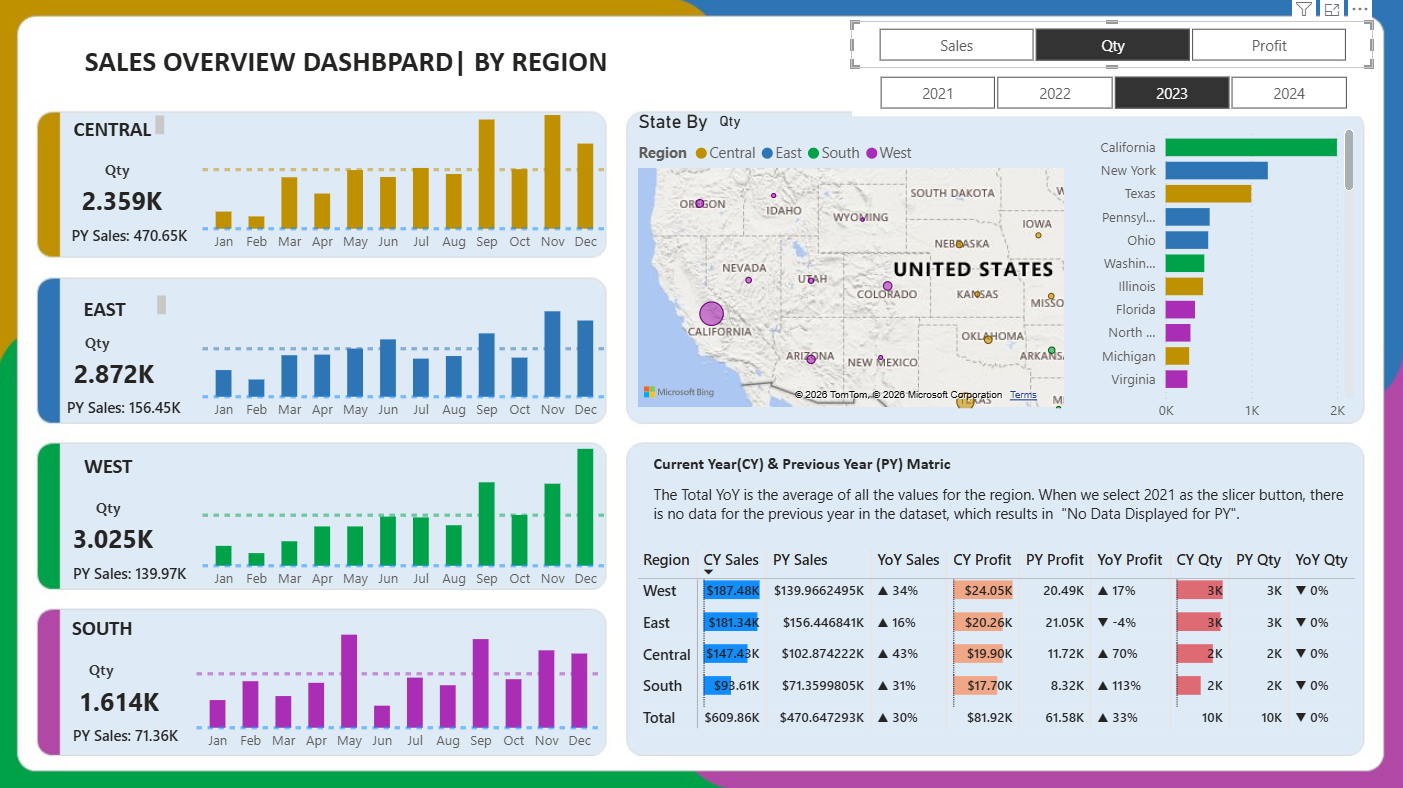

The dashboard page shown, as its layout file describes it:
{"tool":"powerbi","page":{"name":"Sales ODBR","canvas":[1280,720],"ordinal":0},"visuals":[{"type":"textbox","box":[61.2,101.1,96.7,29.3],"z":0},{"type":"slicer","fields":{"Values":["Calendar Table.Year"]},"box":[778.1,63.2,473.7,42.8],"z":1000},{"type":"slicer","fields":{"Values":["Select Matric.Select Matric"]},"box":[777.6,20.4,474.4,42.6],"z":2000},{"type":"cardVisual","fields":{"Data":["Sales Data.Total Sales"]},"box":[61.2,142.8,134.8,67.4],"z":3000},{"type":"card","fields":{"Values":["Sales Data.Dynamic Title"]},"box":[61.2,142.8,98.4,25.7],"z":4000},{"type":"card","fields":{"Values":["Sales Data.PY KPI Sales"]},"box":[54.1,203.9,134.8,26.6],"z":5000},{"type":"clusteredColumnChart","fields":{"Y":["Sales Data.Total Sales"],"Category":["Calendar Table.Month"]},"box":[182.7,85.1,377.7,153.4],"z":6000},{"type":"textbox","box":[54.1,35.5,529.4,65.6],"z":7000},{"type":"textbox","box":[44.3,264.2,115.3,29.3],"z":8000},{"type":"cardVisual","fields":{"Data":["Sales Data.Total Sales"]},"box":[54.1,299.7,134.8,67.4],"z":9000},{"type":"card","fields":{"Values":["Sales Data.Dynamic Title"]},"box":[42.6,299.7,98.4,25.7],"z":10000},{"type":"card","fields":{"Values":["Sales Data.PY KPI Sales"]},"box":[42.6,360,146.3,26.6],"z":11000},{"type":"clusteredColumnChart","fields":{"Y":["Sales Data.Total Sales"],"Category":["Calendar Table.Month"]},"box":[182.7,238.5,377.7,153.4],"z":12000},{"type":"textbox","box":[48.1,421.3,115.3,29.3],"z":13000},{"type":"cardVisual","fields":{"Data":["Sales Data.Total Sales"]},"box":[52.3,450.4,134.8,67.4],"z":14000},{"type":"card","fields":{"Values":["Sales Data.Dynamic Title"]},"box":[52.3,450.4,98.4,25.7],"z":15000},{"type":"card","fields":{"Values":["Sales Data.PY KPI Sales"]},"box":[47.9,510.7,146.3,26.6],"z":16000},{"type":"clusteredColumnChart","fields":{"Y":["Sales Data.Total Sales"],"Category":["Calendar Table.Month"]},"box":[182.7,391.9,377.7,153.4],"z":17000},{"type":"textbox","box":[54.1,407.9,96.7,42.6],"z":18000},{"type":"cardVisual","fields":{"Data":["Sales Data.Total Sales"]},"box":[58.4,598.2,135.2,67.1],"z":19000},{"type":"card","fields":{"Values":["Sales Data.Dynamic Title"]},"box":[46.8,597.6,98.4,25.7],"z":20000},{"type":"card","fields":{"Values":["Sales Data.PY KPI Sales"]},"box":[44.7,658.5,145.9,27.2],"z":21000},{"type":"clusteredColumnChart","fields":{"Y":["Sales Data.Total Sales"],"Category":["Calendar Table.Month"]},"box":[177.1,539.1,377.7,153.4],"z":22000},{"type":"textbox","box":[48.5,555,96.7,42.6],"z":23000},{"type":"map","title":"State By","fields":{"Size":["Sales Data.Total Sales"],"Category":["Sales Data.State/Province"],"Series":["Sales Data.Region"]},"box":[579,101.1,397.2,275.8],"z":24000},{"type":"card","fields":{"Values":["Sales Data.DY_map"]},"box":[583.4,69.2,167.6,86.9],"z":25000},{"type":"barChart","fields":{"Y":["Sales Data.Total Sales"],"Category":["Sales Data.State/Province"],"Series":["Sales Data.Region"]},"box":[986.9,105.5,251.8,286.4],"z":26000},{"type":"pivotTable","fields":{"Rows":["Sales Data.Region"],"Values":["Sales Data.CY Sales","Sales Data.PY Sales","Sales Data.YoY Sales","Sales Data.CY Profit","Sales Data.PY Profit","Sales Data.YoY Profit","Sales Data.CY Qty","Sales Data.PY Qty","Sales Data.YoY Qty"]},"box":[578.1,494.8,673.9,191.5],"z":27000},{"type":"textbox","box":[592.7,408.2,434.5,28.2],"z":30000},{"type":"textbox","box":[592.7,436.4,646.4,48.2],"z":30001}]}

Visuals, with their boxes in screenshot pixels (x1, y1, x2, y2), scaled from the page's 1280x720 canvas onto the 1403x788 screenshot:
textbox: (67, 111, 173, 143)
slicer - Calendar Table.Year: (853, 69, 1372, 116)
slicer - Select Matric.Select Matric: (852, 22, 1372, 69)
cardVisual - Sales Data.Total Sales: (67, 156, 215, 230)
card - Sales Data.Dynamic Title: (67, 156, 175, 184)
card - Sales Data.PY KPI Sales: (59, 223, 207, 252)
clusteredColumnChart - Sales Data.Total Sales x Calendar Table.Month: (200, 93, 614, 261)
textbox: (59, 39, 640, 111)
textbox: (49, 289, 175, 321)
cardVisual - Sales Data.Total Sales: (59, 328, 207, 402)
card - Sales Data.Dynamic Title: (47, 328, 155, 356)
card - Sales Data.PY KPI Sales: (47, 394, 207, 423)
clusteredColumnChart - Sales Data.Total Sales x Calendar Table.Month: (200, 261, 614, 429)
textbox: (53, 461, 179, 493)
cardVisual - Sales Data.Total Sales: (57, 493, 205, 567)
card - Sales Data.Dynamic Title: (57, 493, 165, 521)
card - Sales Data.PY KPI Sales: (53, 559, 213, 588)
clusteredColumnChart - Sales Data.Total Sales x Calendar Table.Month: (200, 429, 614, 597)
textbox: (59, 446, 165, 493)
cardVisual - Sales Data.Total Sales: (64, 655, 212, 728)
card - Sales Data.Dynamic Title: (51, 654, 159, 682)
card - Sales Data.PY KPI Sales: (49, 721, 209, 750)
clusteredColumnChart - Sales Data.Total Sales x Calendar Table.Month: (194, 590, 608, 758)
textbox: (53, 607, 159, 654)
"State By" map: (635, 111, 1070, 412)
card - Sales Data.DY_map: (639, 76, 823, 171)
barChart - Sales Data.Total Sales x Sales Data.State/Province: (1082, 115, 1358, 429)
pivotTable - Sales Data.Region x Sales Data.CY Sales: (634, 542, 1372, 751)
textbox: (650, 447, 1126, 478)
textbox: (650, 478, 1358, 530)
